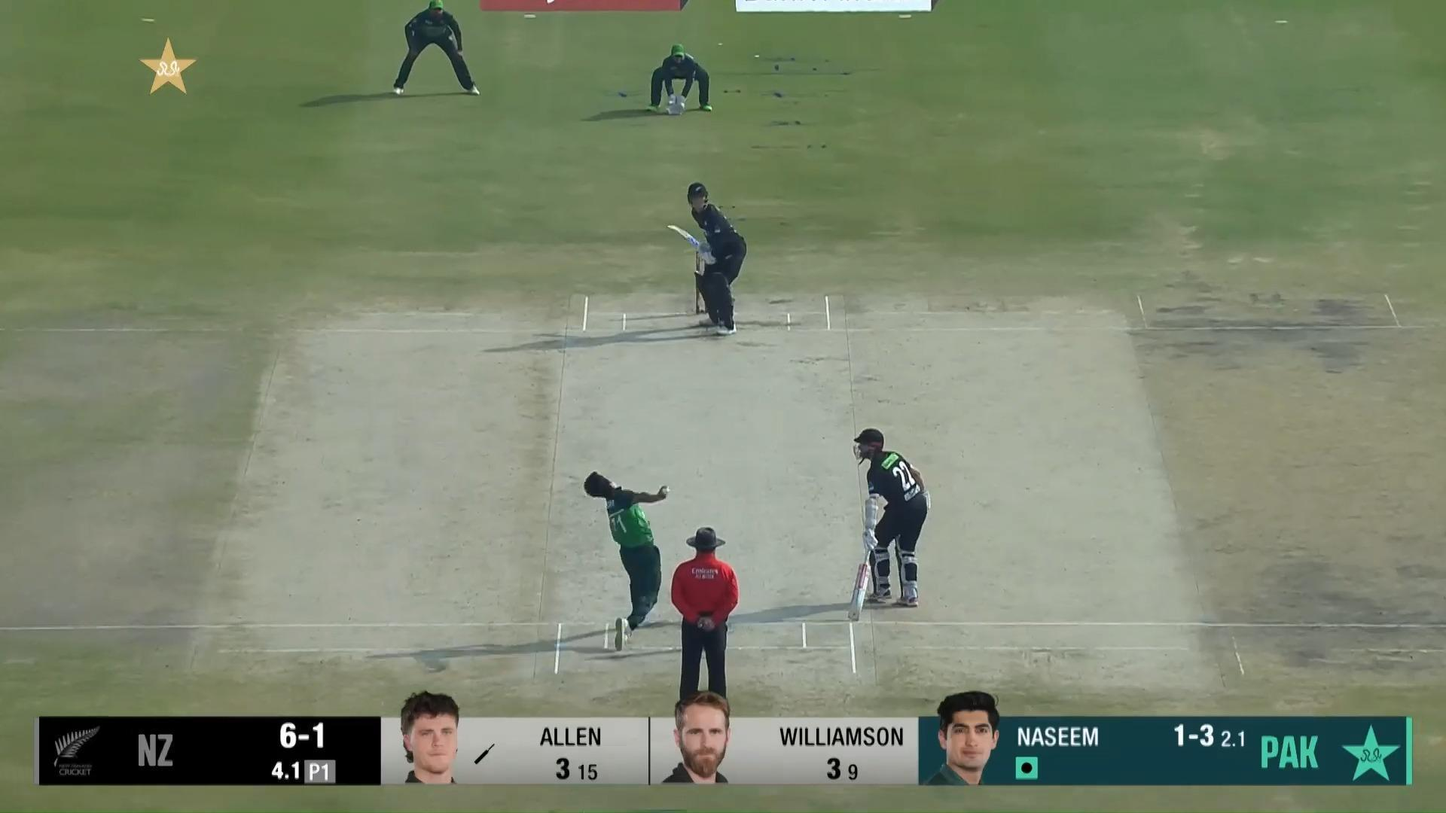BM 1: (667, 183, 747, 335)
BO: (584, 470, 667, 652)
